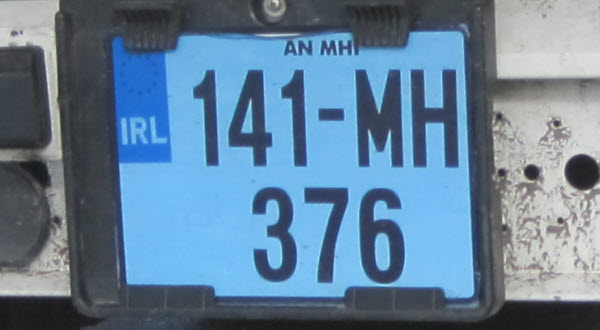license_plate: (106, 27, 481, 304)
